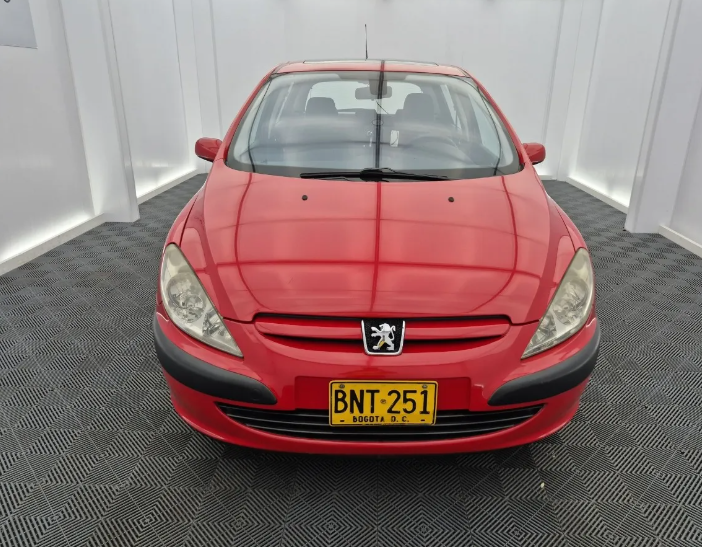placa: (327, 381, 437, 427)
